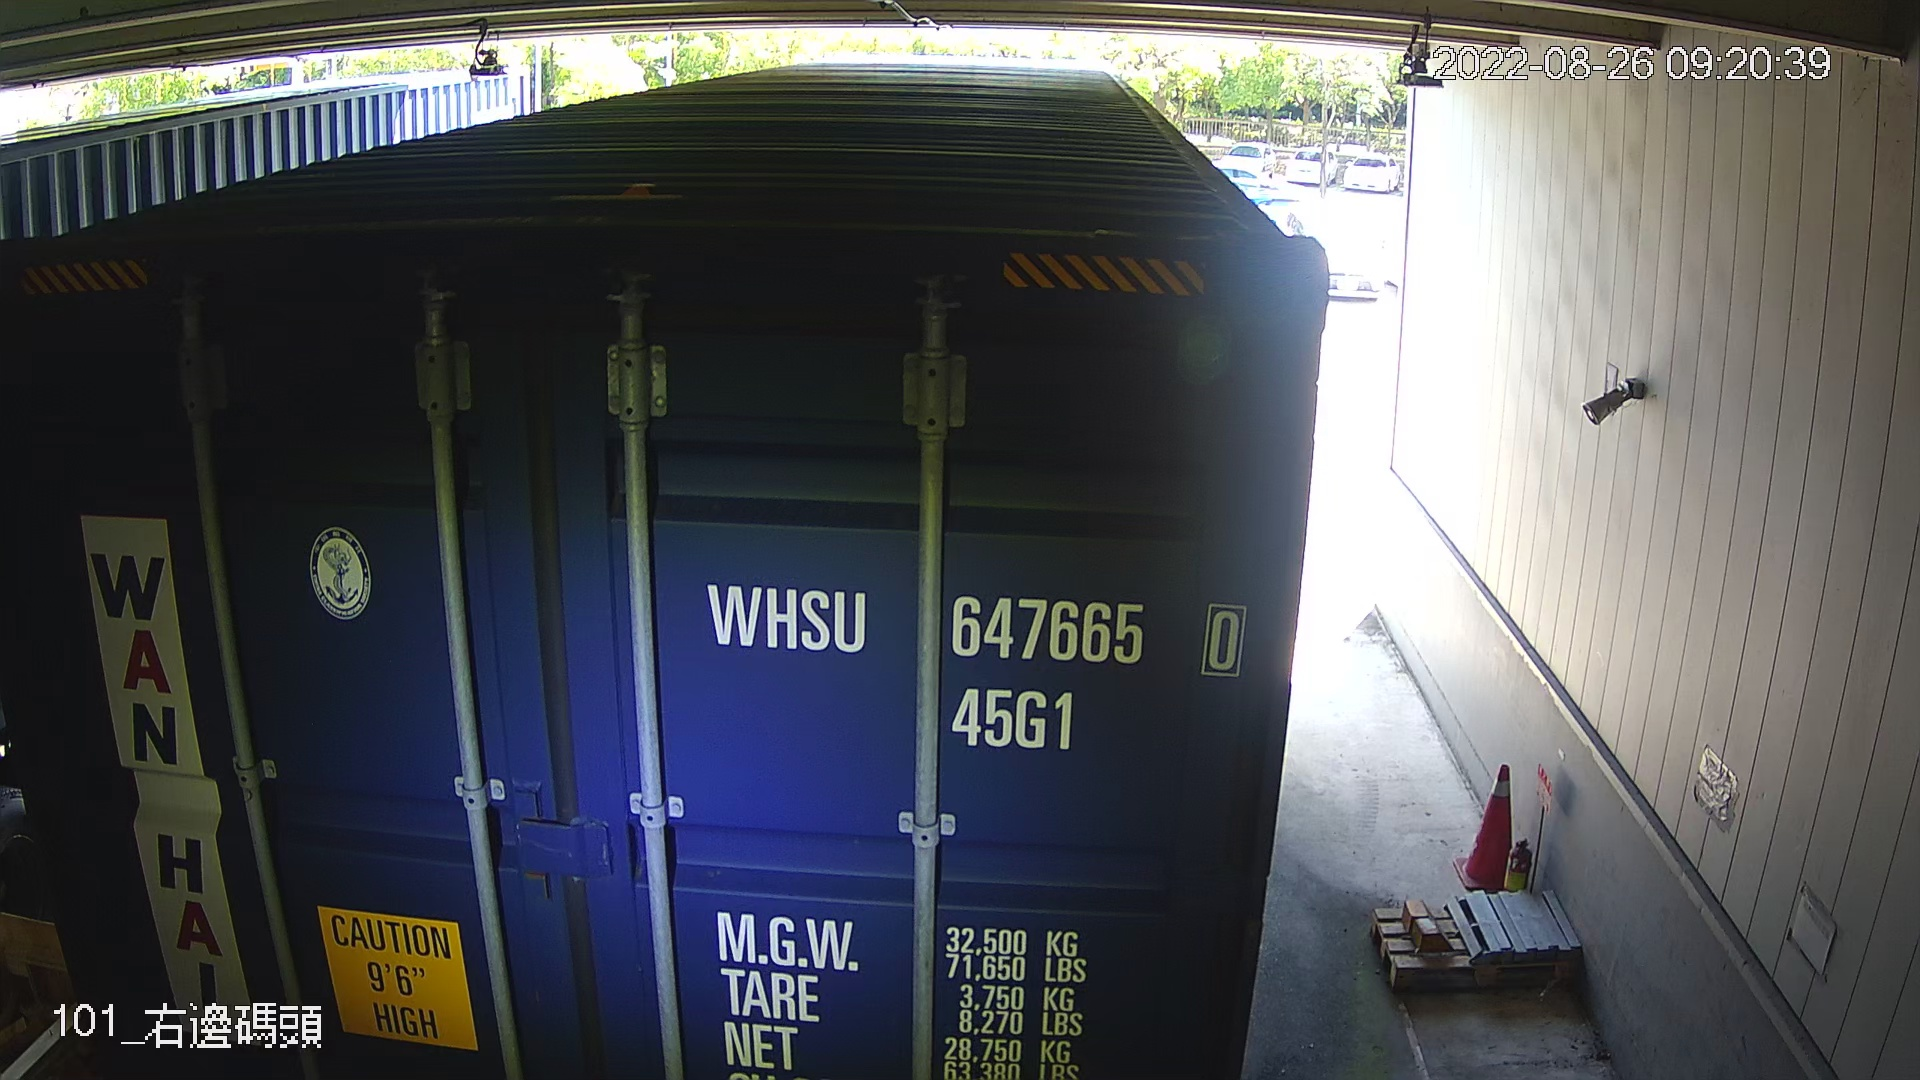container: (692, 554, 1255, 774)
